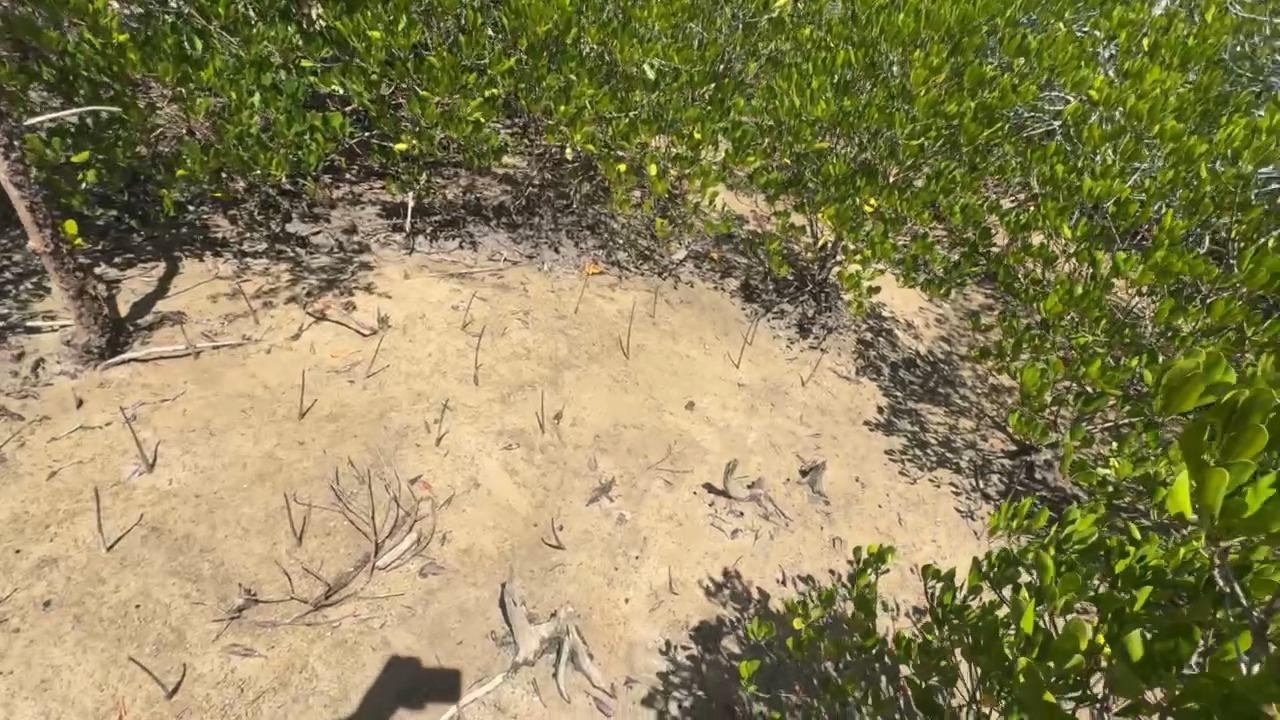Tree: (119, 405, 153, 473), (801, 346, 830, 386), (736, 314, 757, 369), (235, 282, 260, 325), (93, 484, 108, 554), (473, 325, 489, 386), (363, 335, 386, 377), (166, 663, 188, 702), (435, 397, 449, 447), (460, 290, 478, 328), (179, 321, 197, 359), (573, 272, 589, 313), (550, 517, 568, 549), (627, 301, 635, 359), (974, 518, 992, 540), (750, 318, 762, 345), (299, 369, 305, 420), (297, 515, 307, 545), (668, 565, 677, 593), (541, 391, 545, 434), (653, 285, 658, 319)
